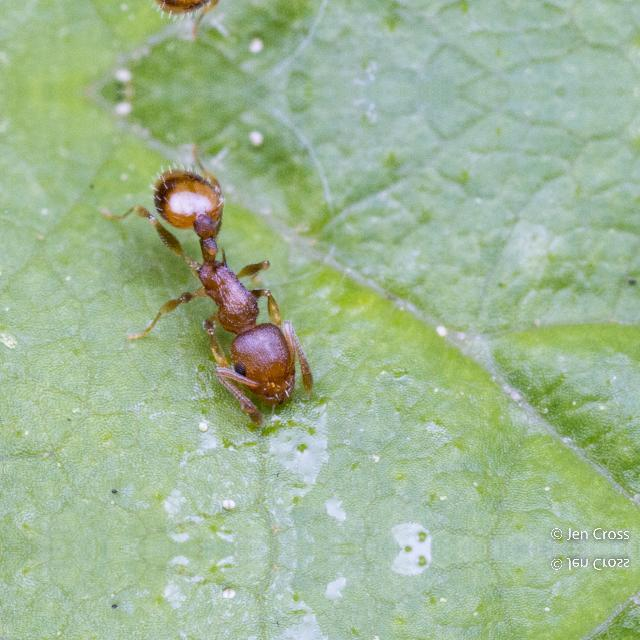Temnothorax: (106, 137, 354, 426)
